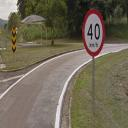speed_limit_40: (82, 8, 105, 56)
